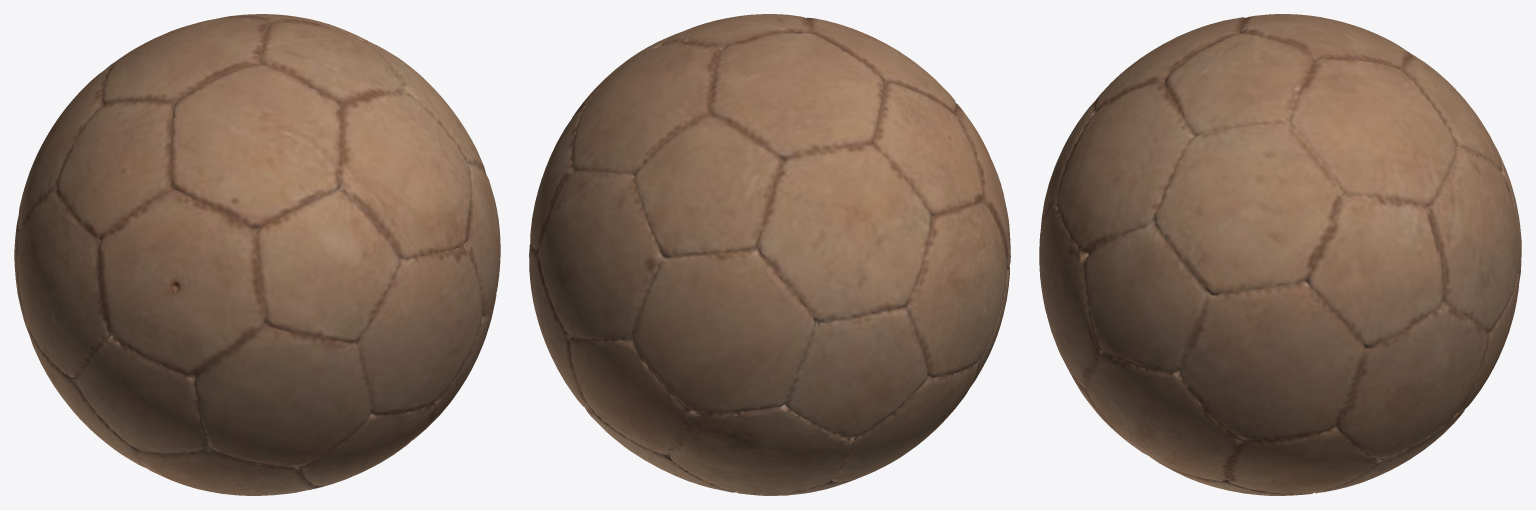
File: dirty_football.glb
The picture shows the model from 3 angles, left to right: view 1: azimuth 30°, elevation 25°; view 2: azimuth 150°, elevation 25°; view 3: azimuth 270°, elevation 25°; orthographic projection.
Visible parts, largest first — view 1: dirty_football; view 2: dirty_football; view 3: dirty_football.
Boxes of the visible parts, x1=… form: dirty_football: x1=14, y1=14, x2=500, y2=495; dirty_football: x1=529, y1=14, x2=1010, y2=495; dirty_football: x1=1039, y1=14, x2=1521, y2=495.
Size of the model in its own units: 0.2214 by 0.22 by 0.22.
1 material, 1 textured.
